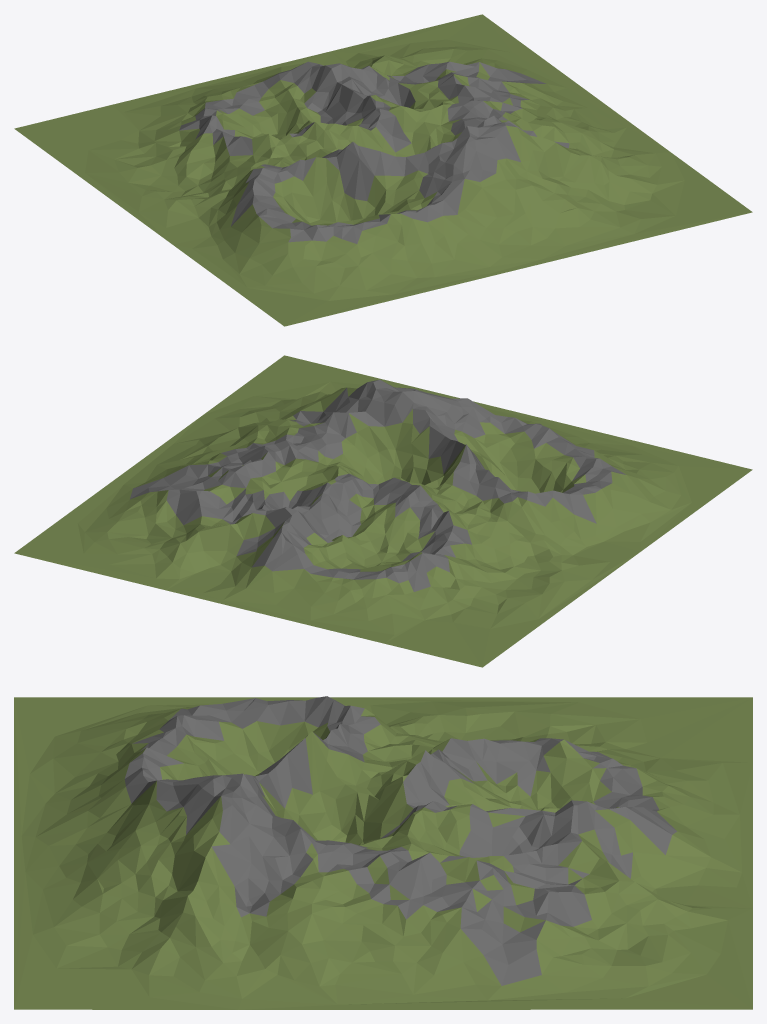
Rendered from Terrain_04.fbx.
3 views of the same model, one above another, from view 1: azimuth 30°, elevation 25°; view 2: azimuth 150°, elevation 25°; view 3: azimuth 270°, elevation 25° (orthographic). The views are drawn at different scales.
Visible parts, largest first — view 1: Terrain_04; view 2: Terrain_04; view 3: Terrain_04.
Part boxes in pixels (box(x1,y1,x2,y2)): Terrain_04: box(14, 14, 752, 326); Terrain_04: box(14, 355, 752, 667); Terrain_04: box(14, 696, 752, 1009).
Size of the model in its own units: 20000 by 3037 by 20000.
